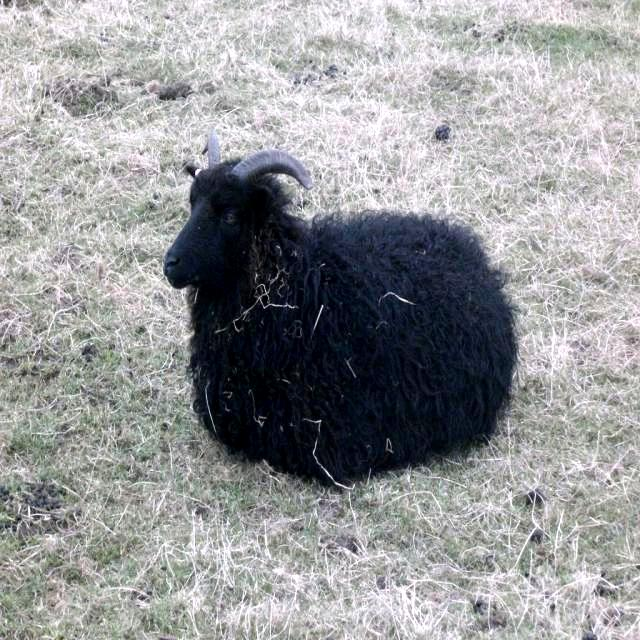sheep: (163, 151, 517, 483)
